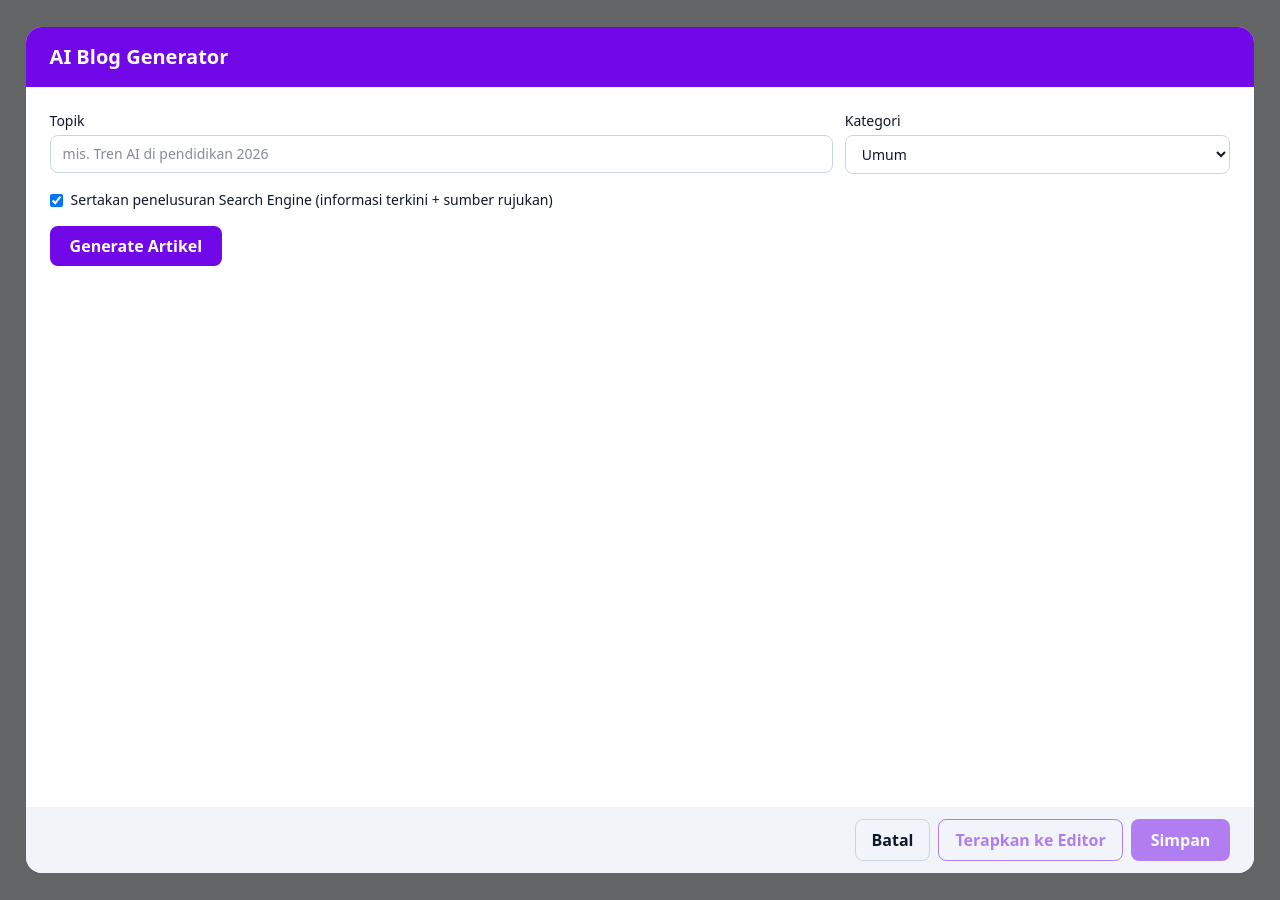
Test: AiPostGeneratorModal › tanpa search engine: tidak ada daftar sumber; terapkan ke editor
Later steps or results of the test are not shown.
Type "x" into the field labelled "Topik".
click(441, 154); type("x")  # box [50,135,833,173]
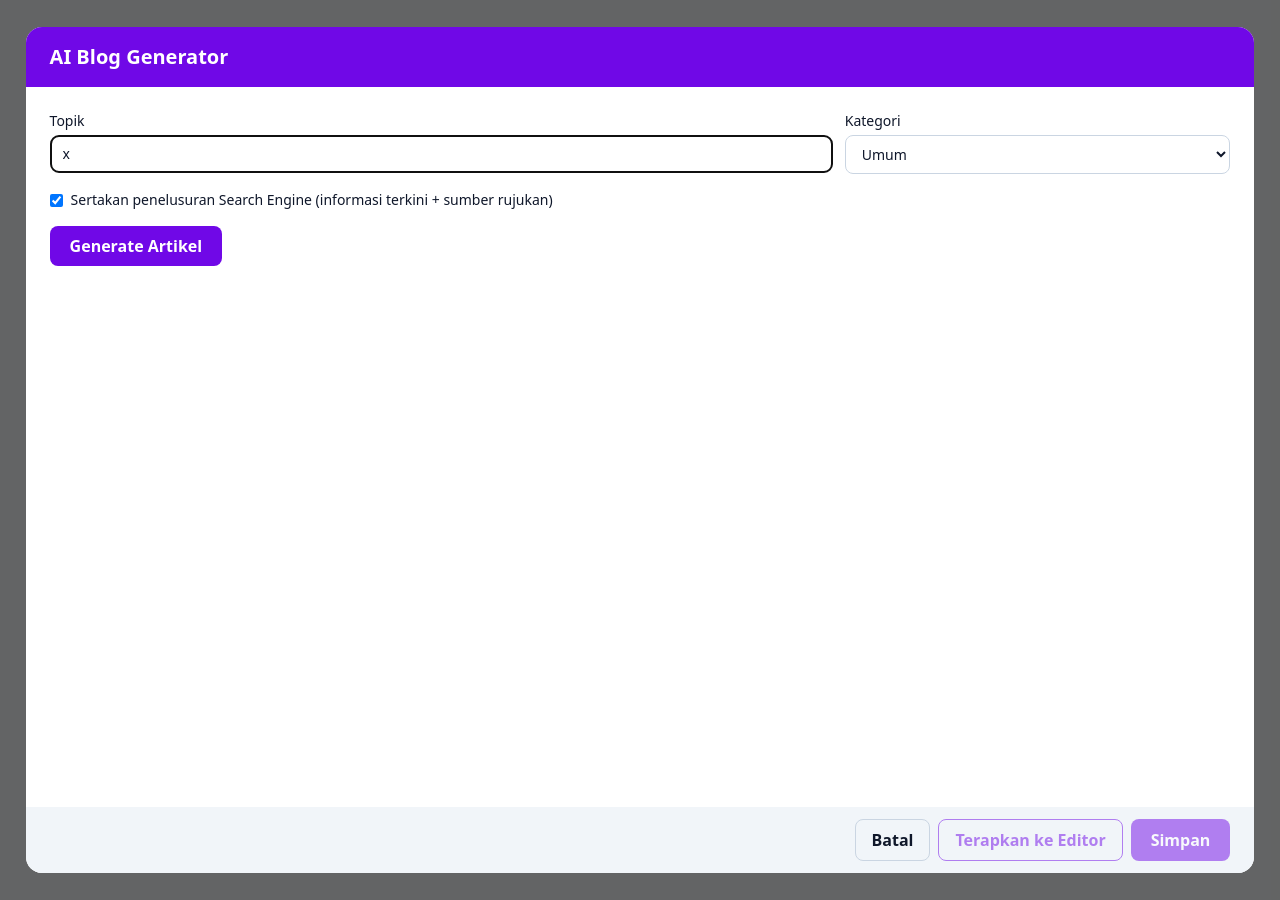
Click the checkbox named "Sertakan penelusuran web".
click(56, 200)  # box [50,194,63,206]
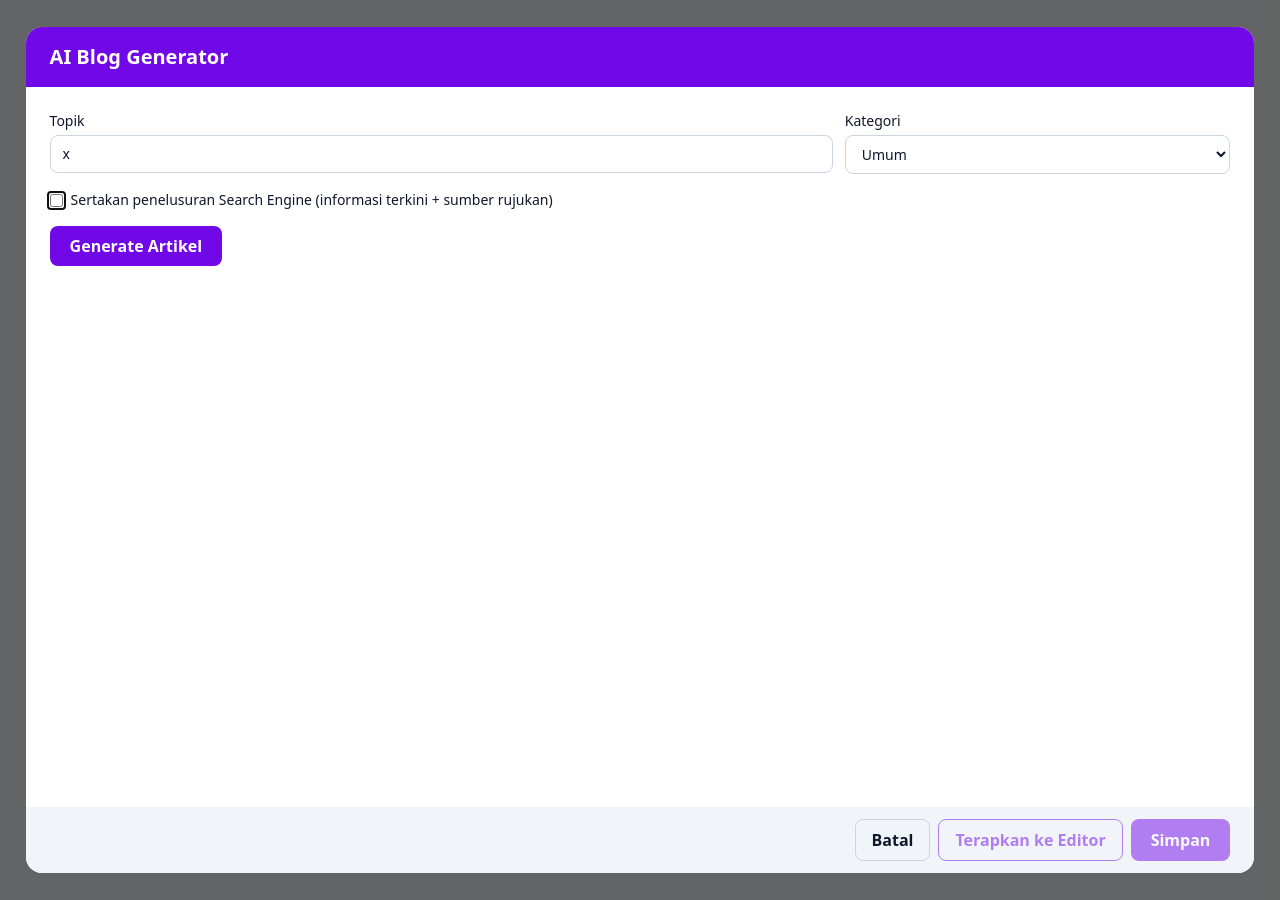
Click the button "Generate Artikel".
click(136, 246)  # box [50,226,222,266]
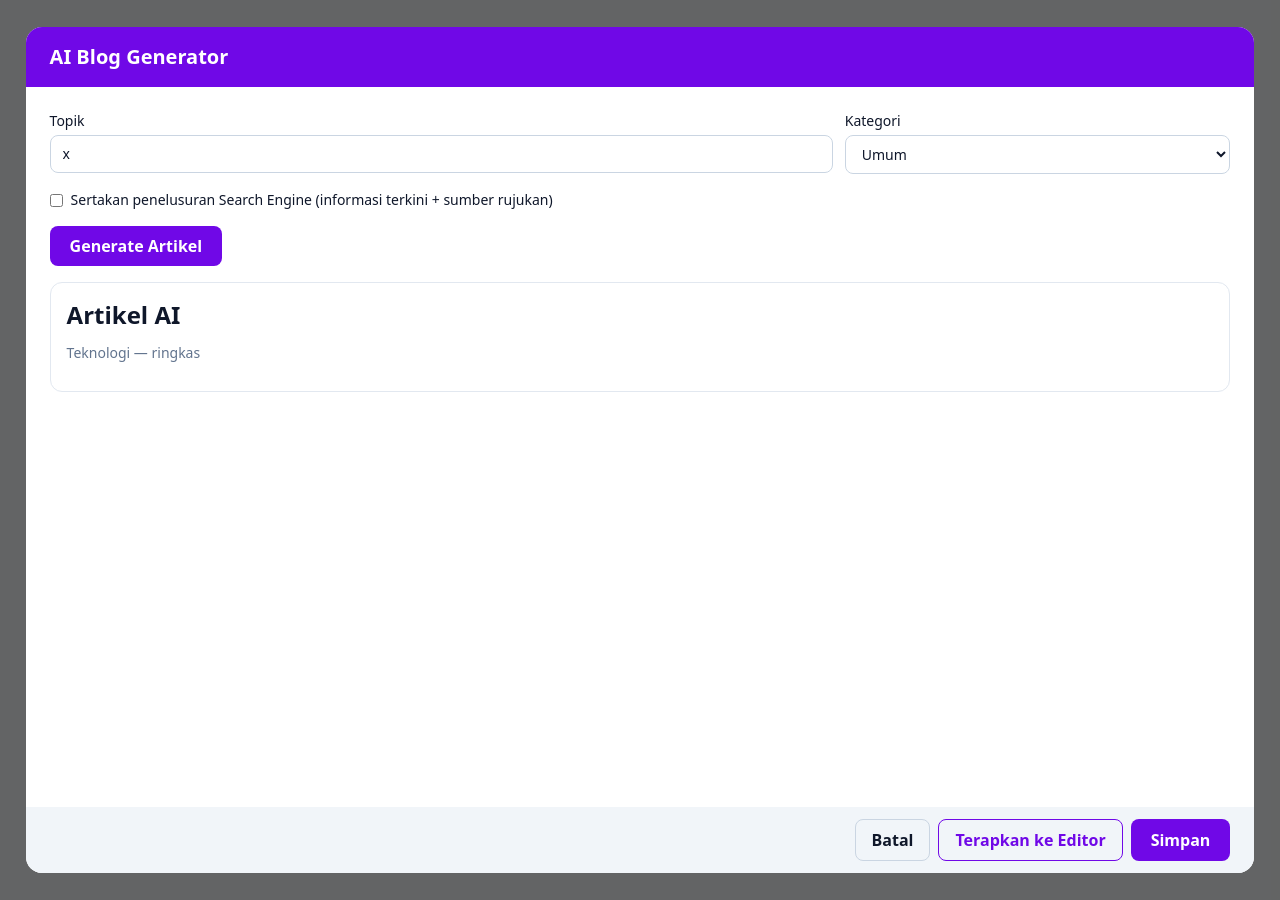
Check: the heading "Artikel AI" is shown, box [67,298,180,331]
